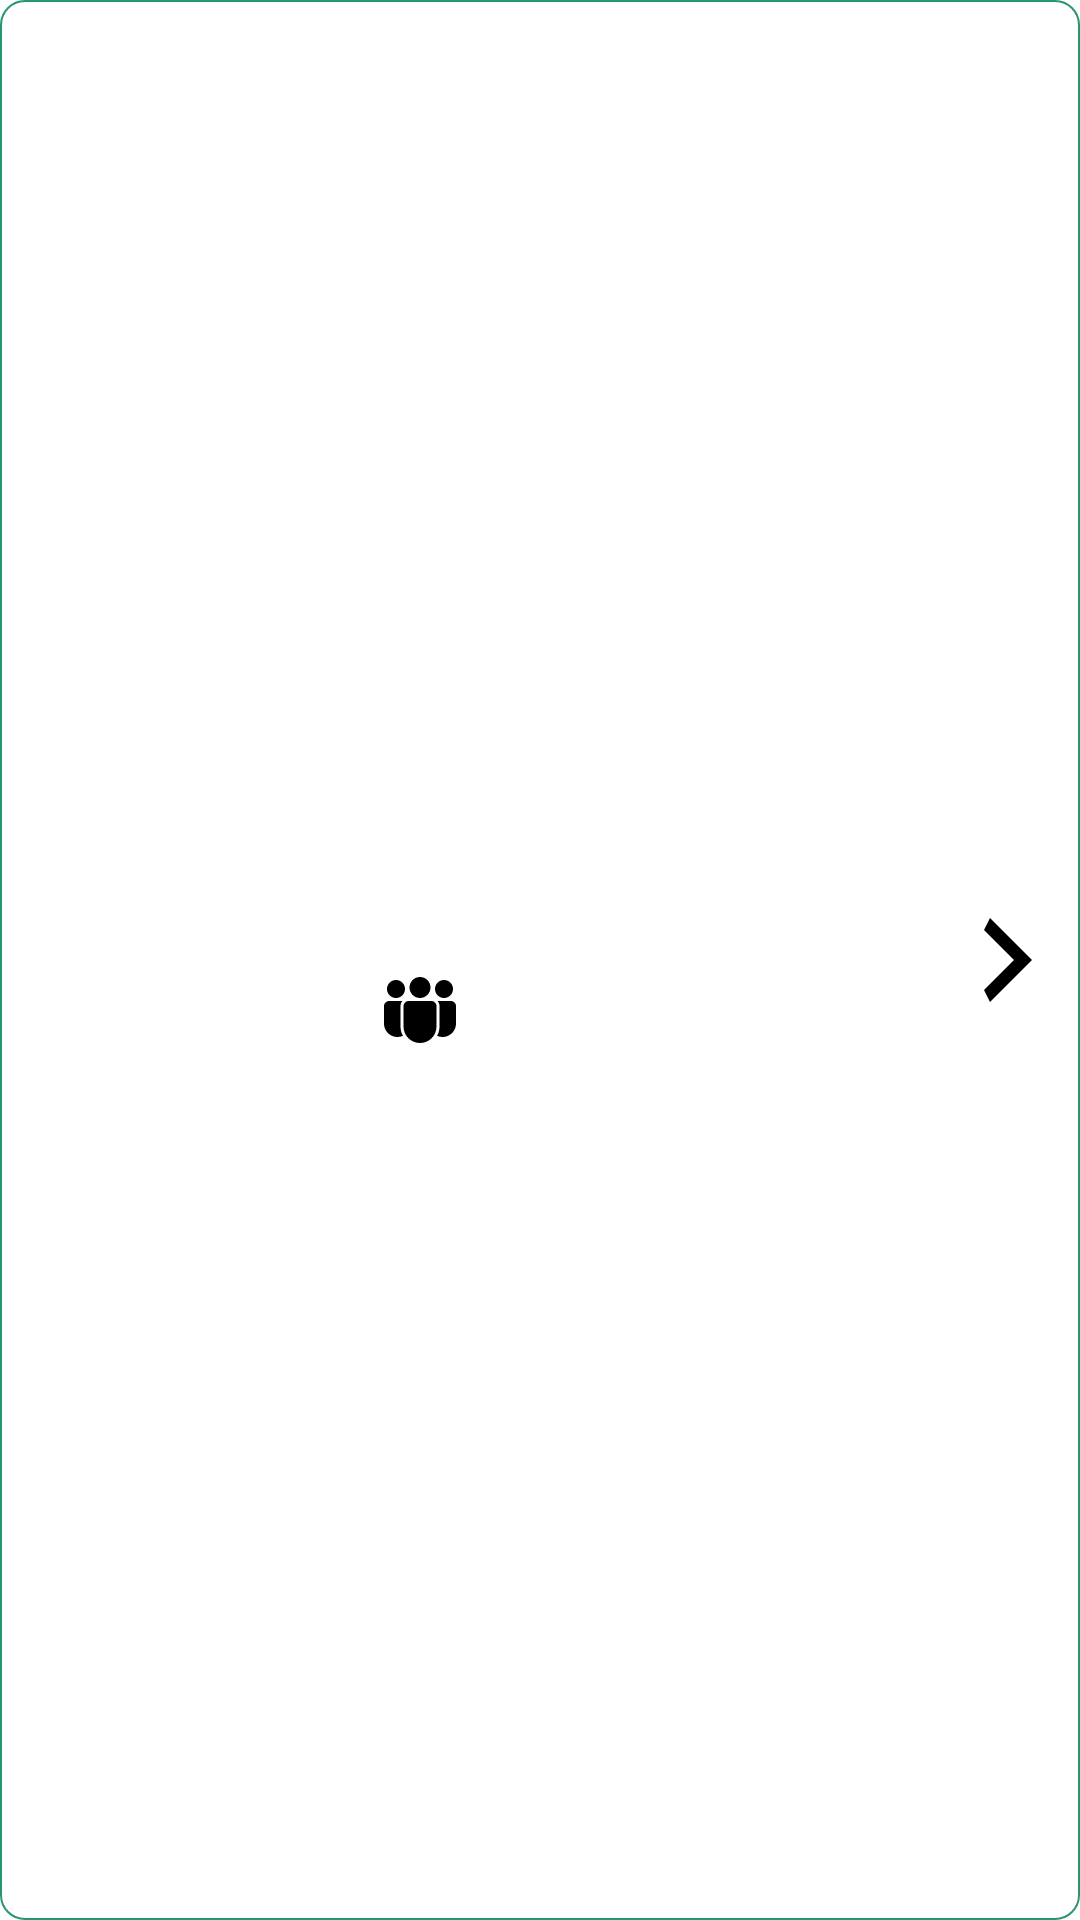

Named icons in this screenshot (1080×1920) and their bounding boxes, box=[x1, y1, x2, y2]:
more: box=[984, 918, 1032, 1002]
